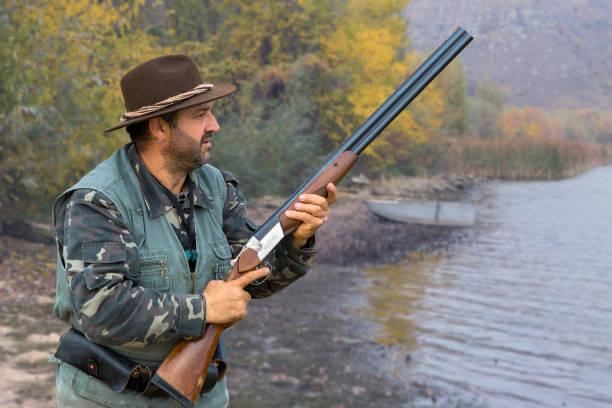larga: (147, 25, 474, 408)
